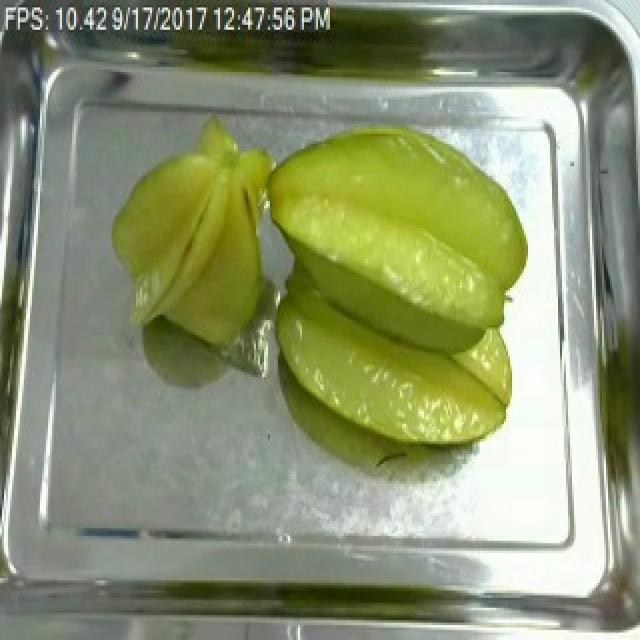fruit: (258, 109, 536, 437), (98, 109, 282, 360)
